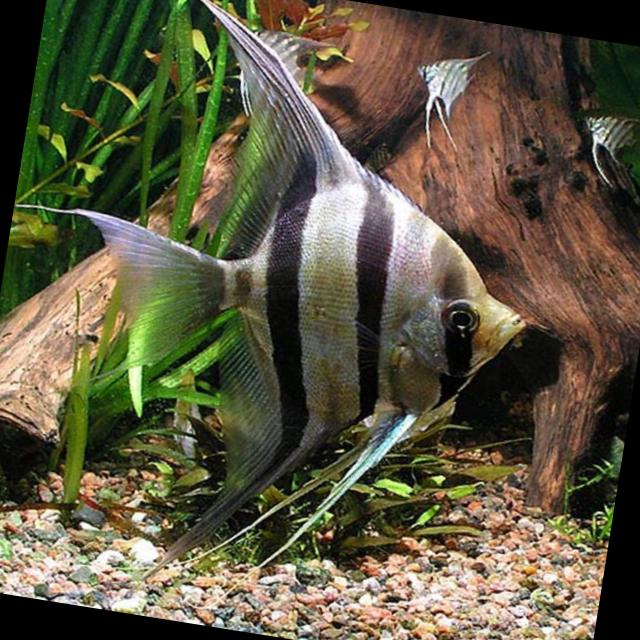AngelFish: (34, 0, 571, 628)
